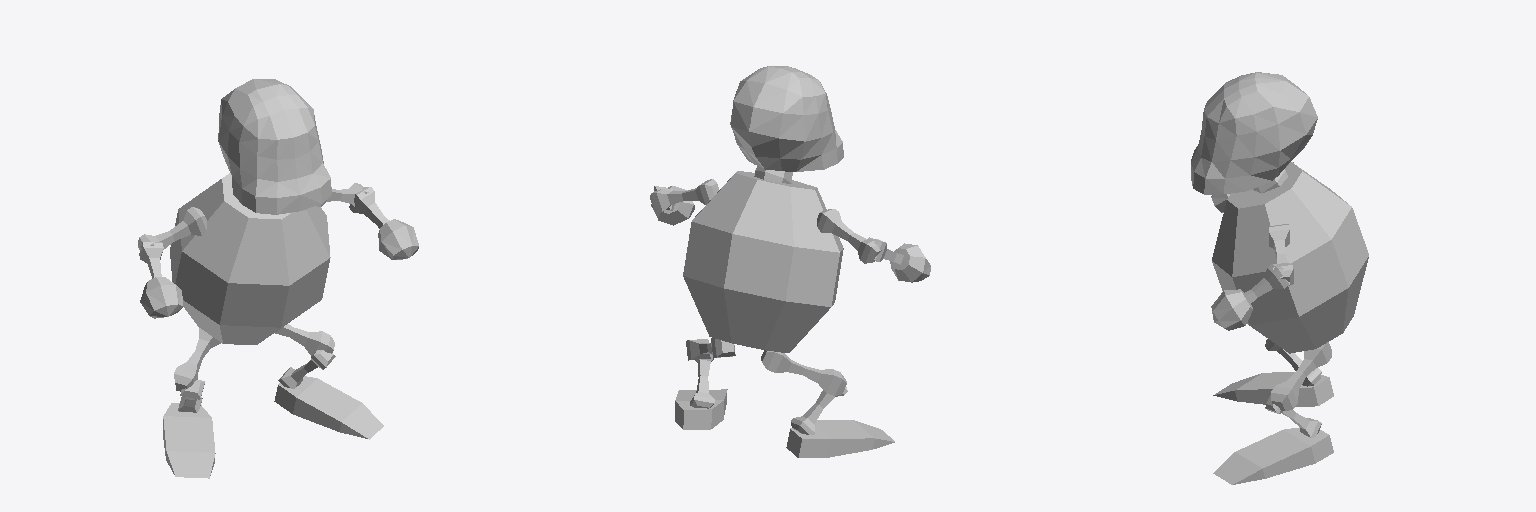
Rendered from Enemy2.obj.
3 views of the same model, side by side, from view 1: azimuth 30°, elevation 25°; view 2: azimuth 150°, elevation 25°; view 3: azimuth 270°, elevation 25° (orthographic).
Visible parts, largest first — view 1: D0902A61; view 2: D0902A61; view 3: D0902A61.
Part boxes in pixels (bbox=[...]): D0902A61: bbox=[138, 79, 418, 478]; D0902A61: bbox=[650, 66, 930, 457]; D0902A61: bbox=[1191, 72, 1368, 484].
Bounding box in the file's own units: 39.71 × 49.97 × 22.68.